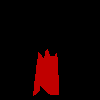gonna: (33, 48, 59, 96)
